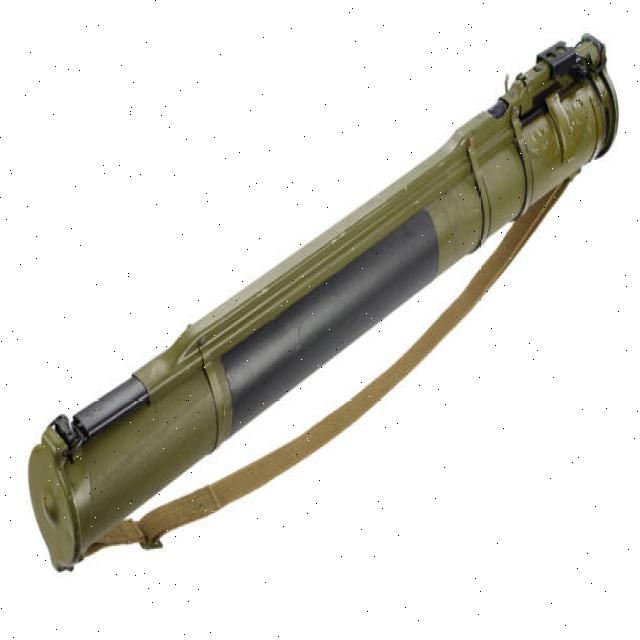bazooka: (25, 26, 623, 578)
